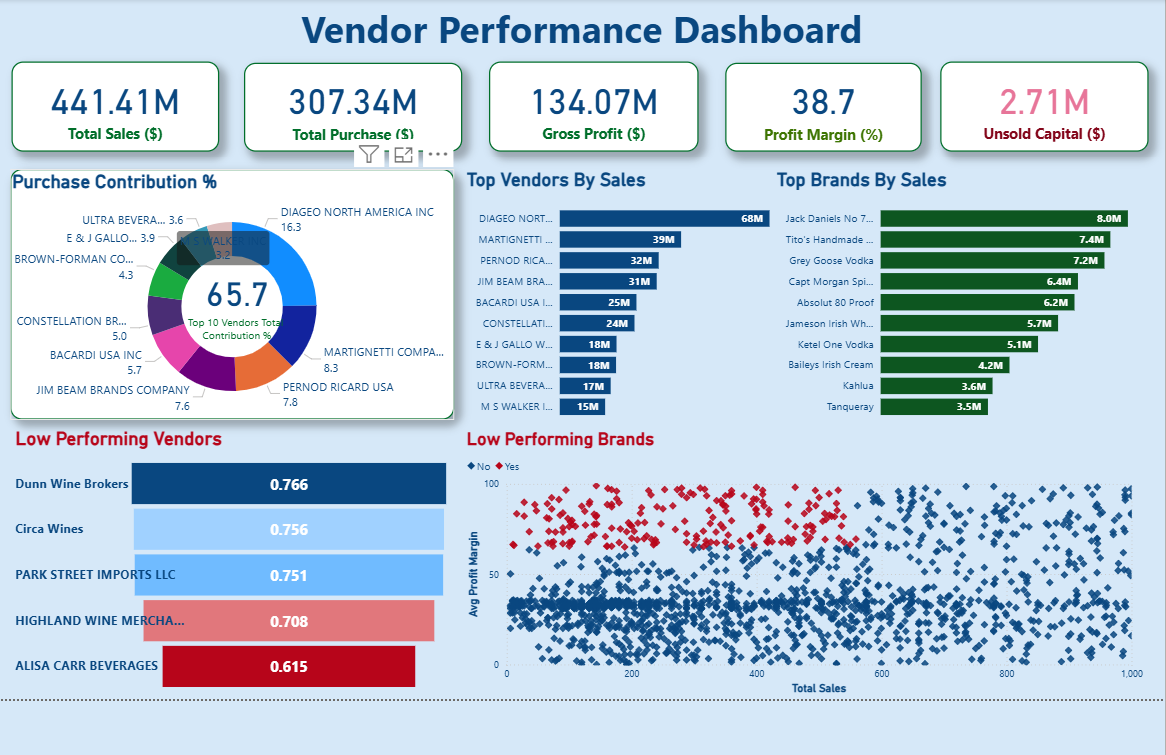

The dashboard page shown, as its layout file describes it:
{"tool":"powerbi","page":{"name":"Page 1","canvas":[1500,900],"ordinal":0},"visuals":[{"type":"card","fields":{"Values":["vendor_sales_summary.TotalPurchaseDollars"]},"box":[315.8,82.4,280.9,114.6],"z":0},{"type":"card","fields":{"Values":["vendor_sales_summary.TotalSalesDollars"]},"box":[16.8,81,266.9,116],"z":1000},{"type":"card","fields":{"Values":["vendor_sales_summary.GrossProfit"]},"box":[630.2,81,269.7,116],"z":2000},{"type":"card","fields":{"Values":["vendor_sales_summary.ProfitMargin"]},"box":[934.8,82.4,252.9,114.6],"z":3000},{"type":"card","fields":{"Values":["vendor_sales_summary.UnsoldCapital"]},"box":[1210.1,81,268.3,116],"z":4000},{"type":"textbox","box":[0,0,1500,83],"z":5000},{"type":"donutChart","title":"Purchase Contribution % ","fields":{"Category":["PurchaseContribution.VendorName"],"Y":["PurchaseContribution.PurchaseContribution%"]},"box":[15.1,577.6,570,322.7],"z":6000},{"type":"card","fields":{"Values":["PurchaseContribution.PurchaseContribution%"]},"box":[206.6,616.8,188.5,233.7],"z":7000},{"type":"barChart","title":"Top Vendors By Sales","fields":{"Category":["vendor_sales_summary.VendorName"],"Y":["vendor_sales_summary.TotalSalesDollars"]},"box":[597.3,219.2,447.9,332.9],"z":8000},{"type":"barChart","title":"Top Brands By Sales","fields":{"Category":["vendor_sales_summary.Description"],"Y":["vendor_sales_summary.TotalSalesDollars"]},"box":[995.3,218.7,505.2,333.3],"z":9000},{"type":"funnel","title":"Low Performing Vendors","fields":{"Category":["LowTurnoverVendor.VendorName"],"Y":["LowTurnoverVendor.AvgStockTurnOver"]},"box":[16.6,218.7,568.5,348.4],"z":10000},{"type":"scatterChart","title":"Low Performing Brands","fields":{"X":["BrandPerformance.TotalSales"],"Y":["BrandPerformance.AvgProfitMargin"],"Series":["BrandPerformance.TargetBrand"],"Category":["BrandPerformance.Description"]},"box":[596.8,551.6,880.6,348.4],"z":11000}]}

Visuals, with their boxes on the page's 1500x900 design canvas (x1, y1, x2, y2). These are canvas units, not pixel positions in the 1166x755 screenshot, which may show the page scaled, cropped or inside an application window:
card - vendor_sales_summary.TotalPurchaseDollars: Rect(316, 82, 597, 197)
card - vendor_sales_summary.TotalSalesDollars: Rect(17, 81, 284, 197)
card - vendor_sales_summary.GrossProfit: Rect(630, 81, 900, 197)
card - vendor_sales_summary.ProfitMargin: Rect(935, 82, 1188, 197)
card - vendor_sales_summary.UnsoldCapital: Rect(1210, 81, 1478, 197)
textbox: Rect(0, 0, 1500, 83)
"Purchase Contribution % " donutChart: Rect(15, 578, 585, 900)
card - PurchaseContribution.PurchaseContribution%: Rect(207, 617, 395, 850)
"Top Vendors By Sales" barChart: Rect(597, 219, 1045, 552)
"Top Brands By Sales" barChart: Rect(995, 219, 1500, 552)
"Low Performing Vendors" funnel: Rect(17, 219, 585, 567)
"Low Performing Brands" scatterChart: Rect(597, 552, 1477, 900)
